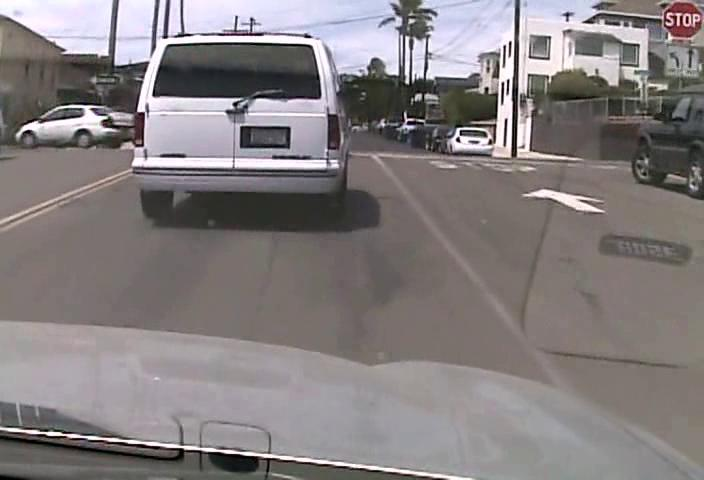stop: (661, 1, 703, 39)
